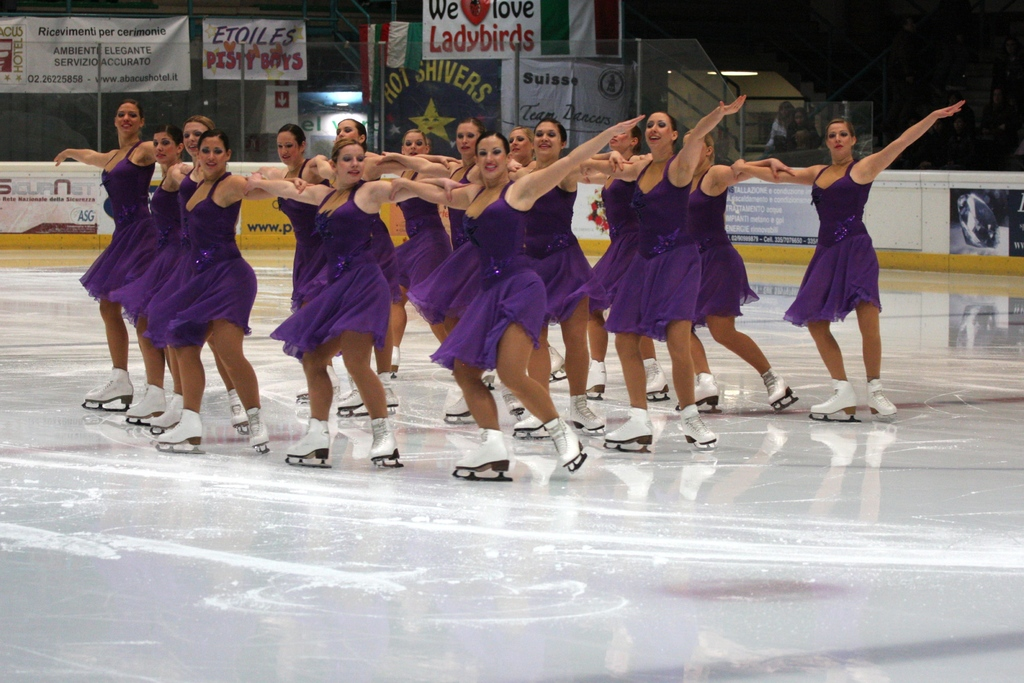person: (452, 440, 541, 498)
